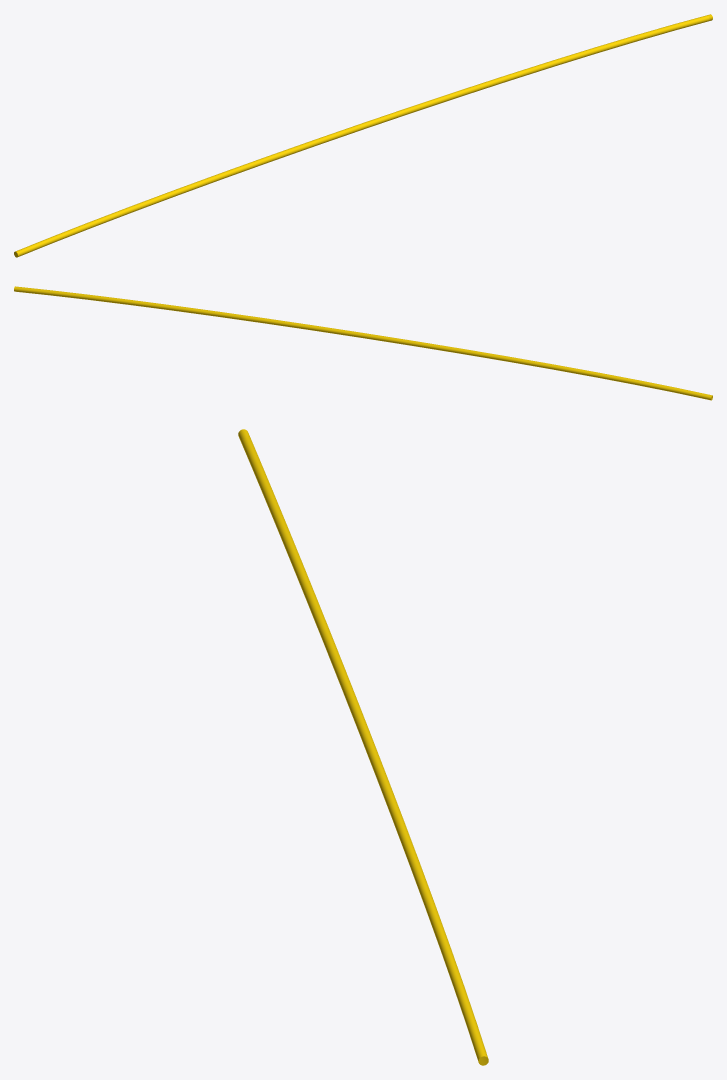
The model's file is Event_420107950_track_23.fbx.
The picture shows the model from 3 angles, top to bottom: view 1: azimuth 30°, elevation 25°; view 2: azimuth 150°, elevation 25°; view 3: azimuth 270°, elevation 25°; orthographic projection. The views are drawn at different scales.
Visible parts, largest first — view 1: Model; view 2: Model; view 3: Model.
Part boxes in pixels (x1,y1,x2,y2): Model: (14,14,712,257); Model: (14,286,712,400); Model: (238,429,488,1065).
Bounding box in the file's own units: 5.61 × 0.1187 × 0.9549.
